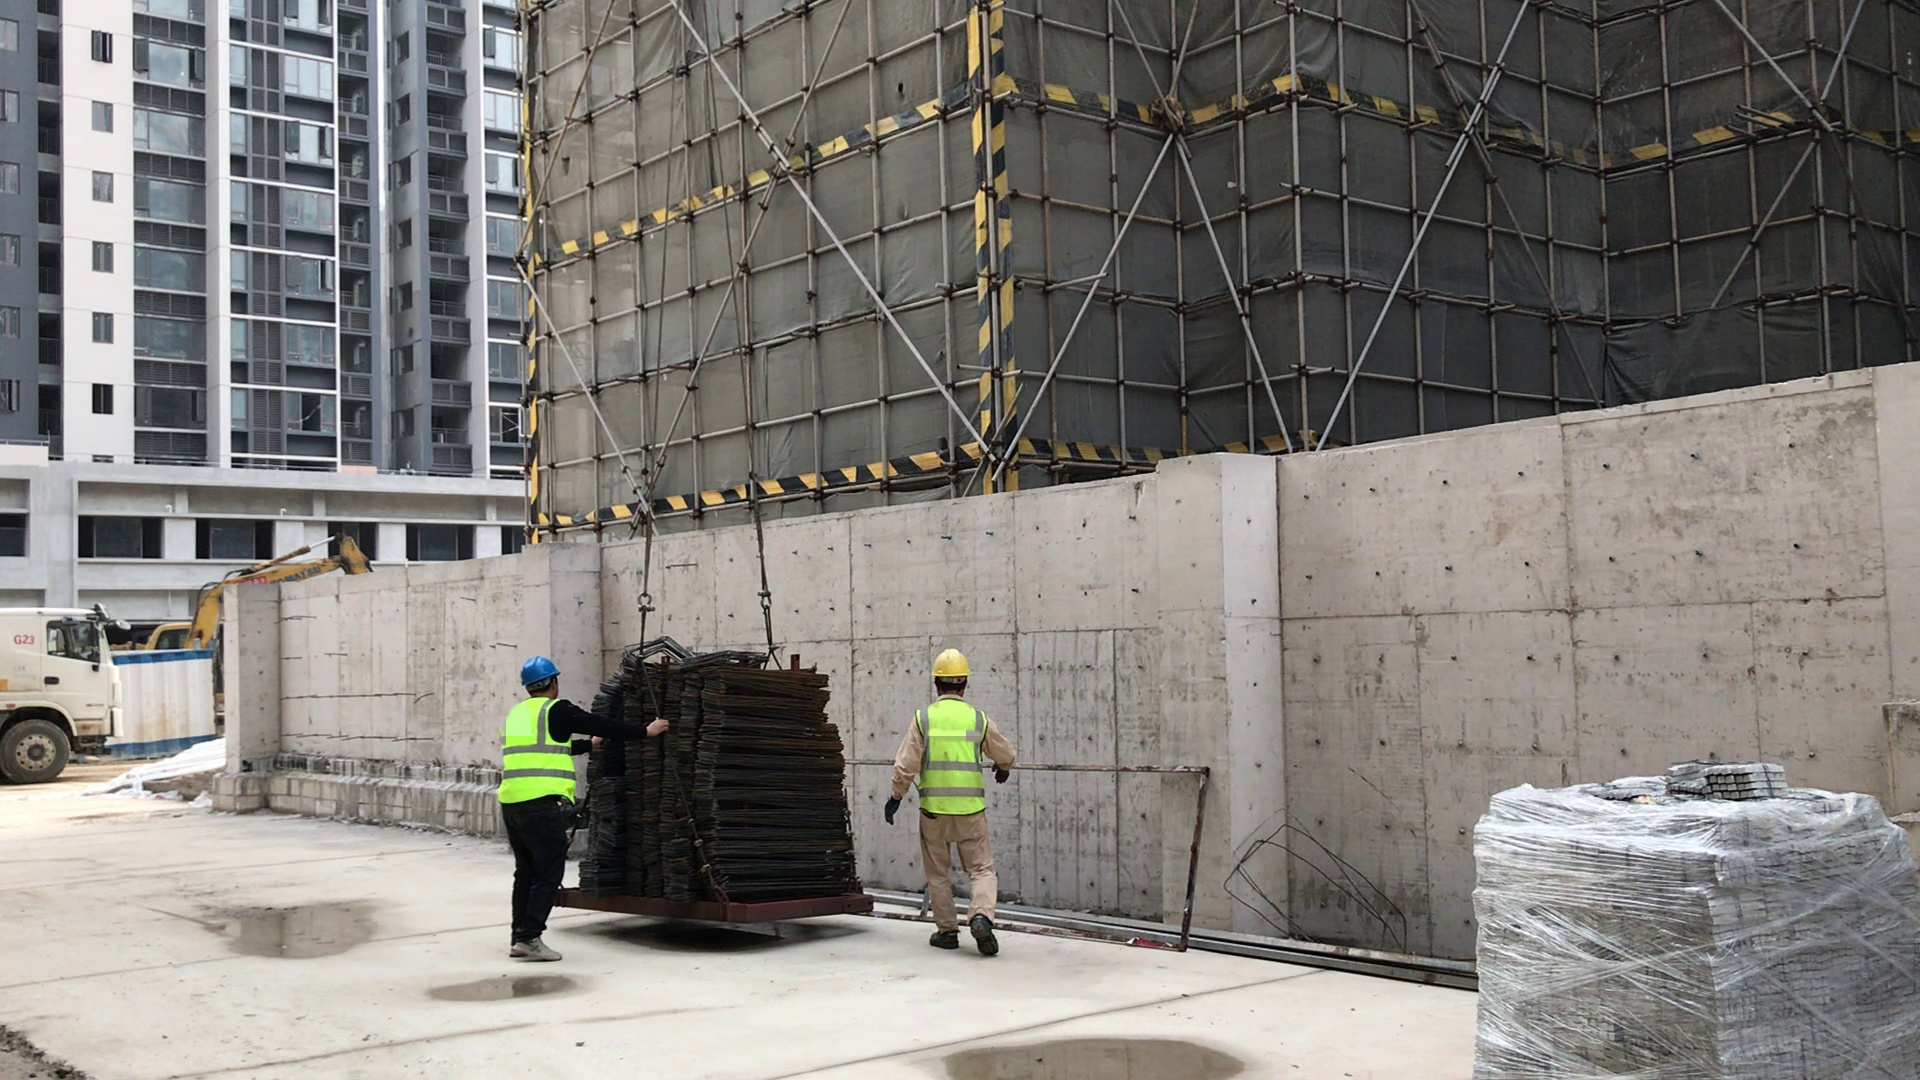helmet: (926, 645, 985, 682), (512, 651, 561, 690)
person: (891, 640, 1009, 963), (494, 637, 591, 959)
vest: (907, 701, 994, 815), (496, 698, 584, 800)
